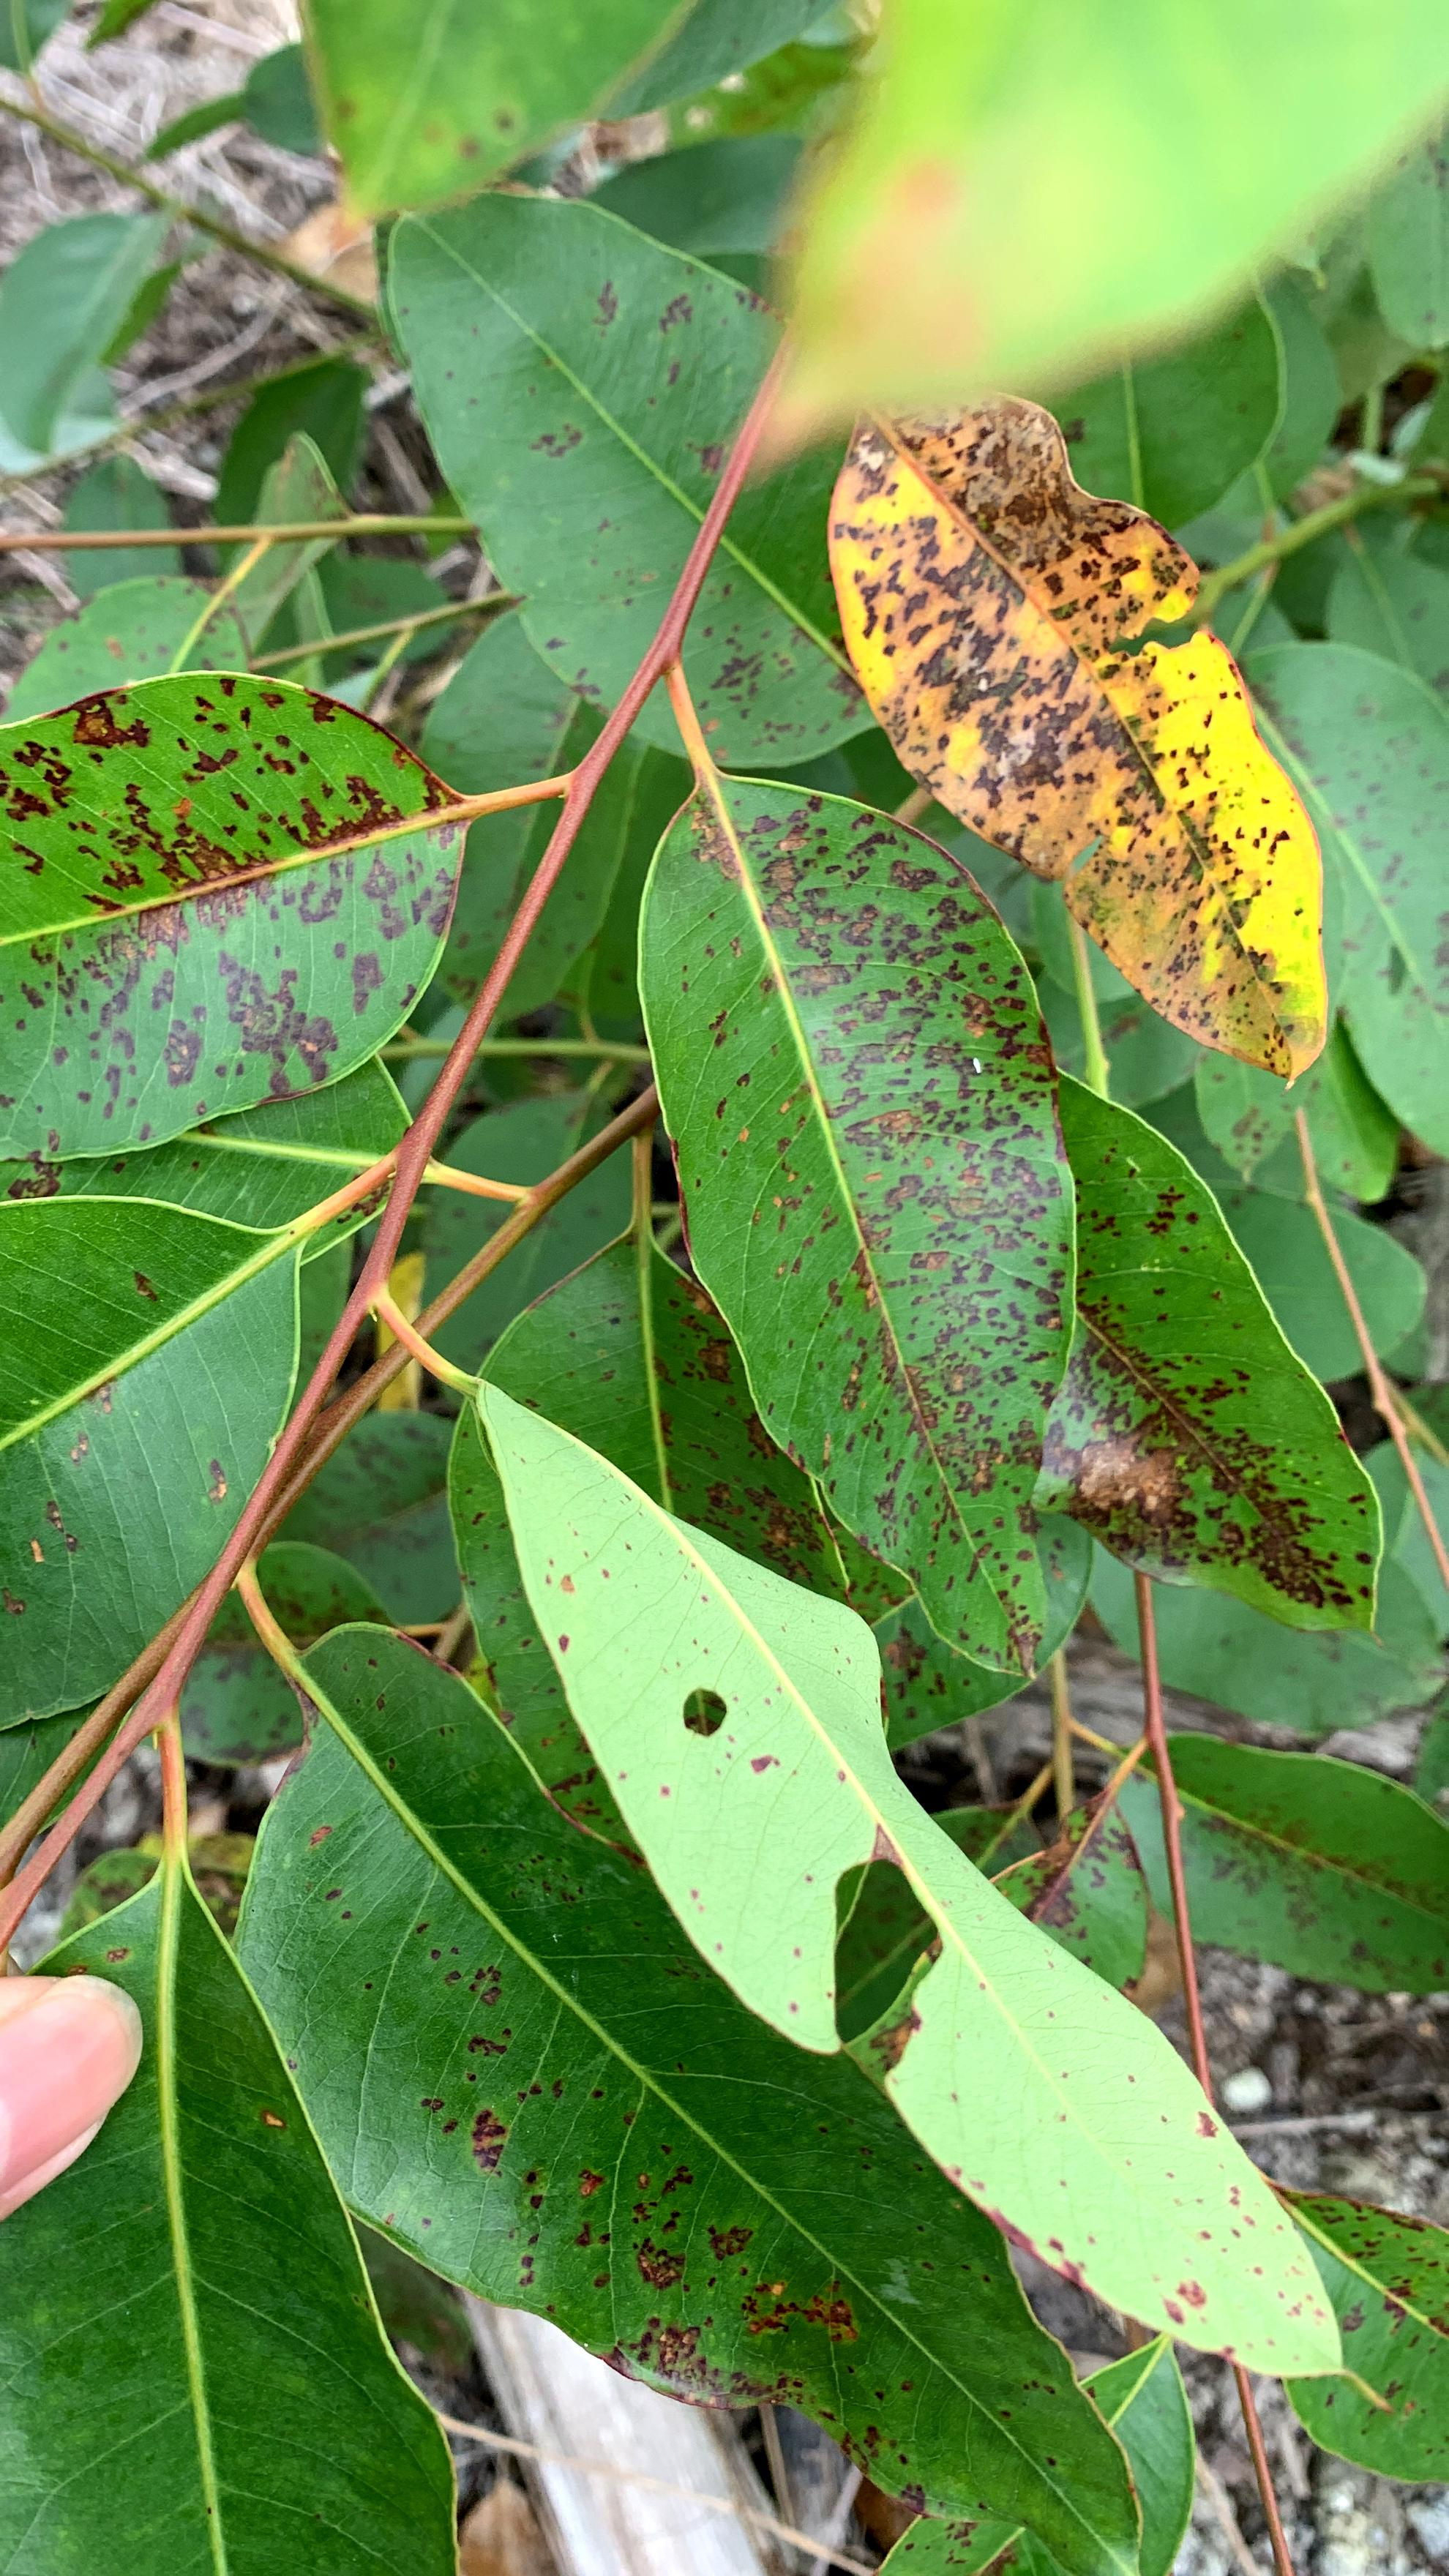Xanthomonas: (657, 739, 1077, 1683), (834, 337, 1335, 1074), (0, 653, 483, 1183), (1084, 1266, 1396, 1647)
